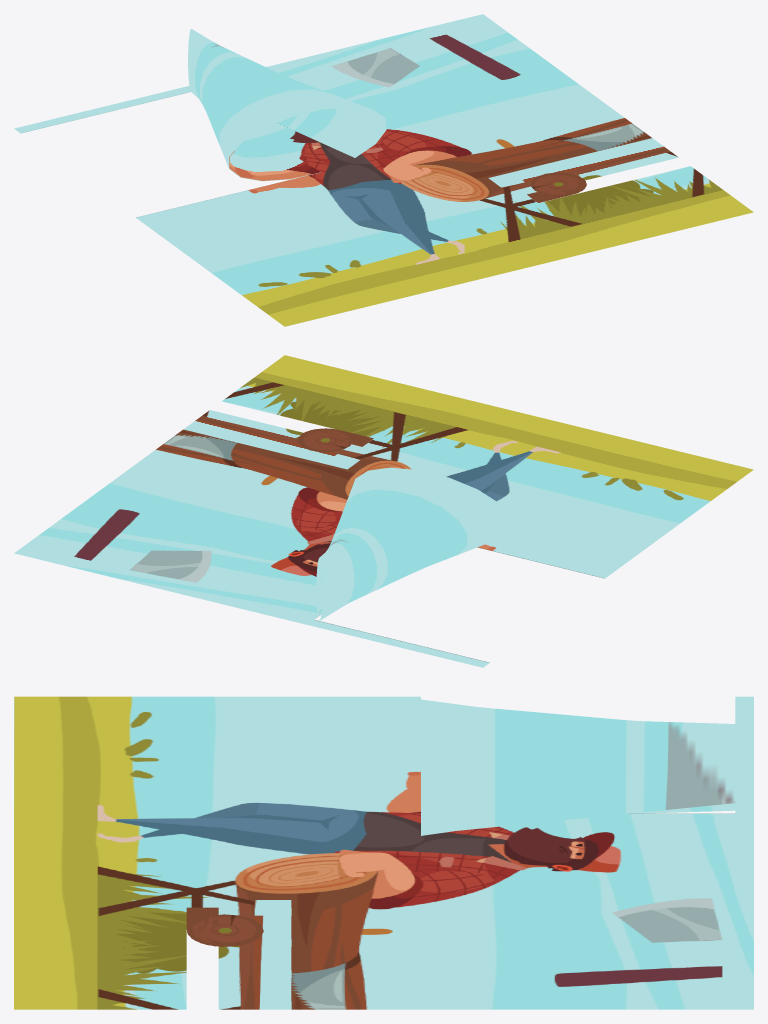
File: Level 41.fbx
3 views of the same model, one above another, from view 1: azimuth 30°, elevation 25°; view 2: azimuth 150°, elevation 25°; view 3: azimuth 270°, elevation 25° (orthographic). The views are drawn at different scales.
Visible parts, largest first — view 1: main, cone, whistle; view 2: main, cone, whistle; view 3: main, cone, whistle.
Part boxes in pixels (<box>): main: <box>14,14,753,326</box>; cone: <box>188,29,386,181</box>; whistle: <box>527,172,586,202</box>; main: <box>14,355,753,667</box>; cone: <box>316,467,511,620</box>; whistle: <box>297,428,373,451</box>; main: <box>14,696,753,1009</box>; cone: <box>421,699,735,835</box>; whistle: <box>186,907,263,946</box>.
Size of the model in its own units: 2400 by 308 by 2400.
